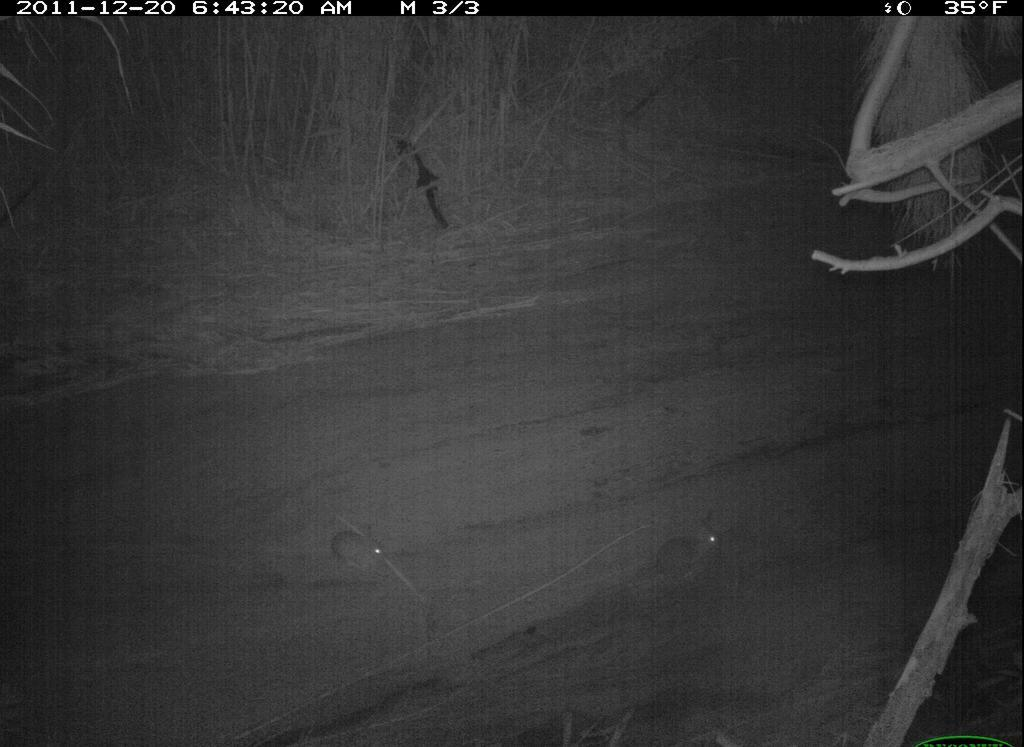rabbit: (644, 506, 731, 585), (323, 514, 392, 582)
